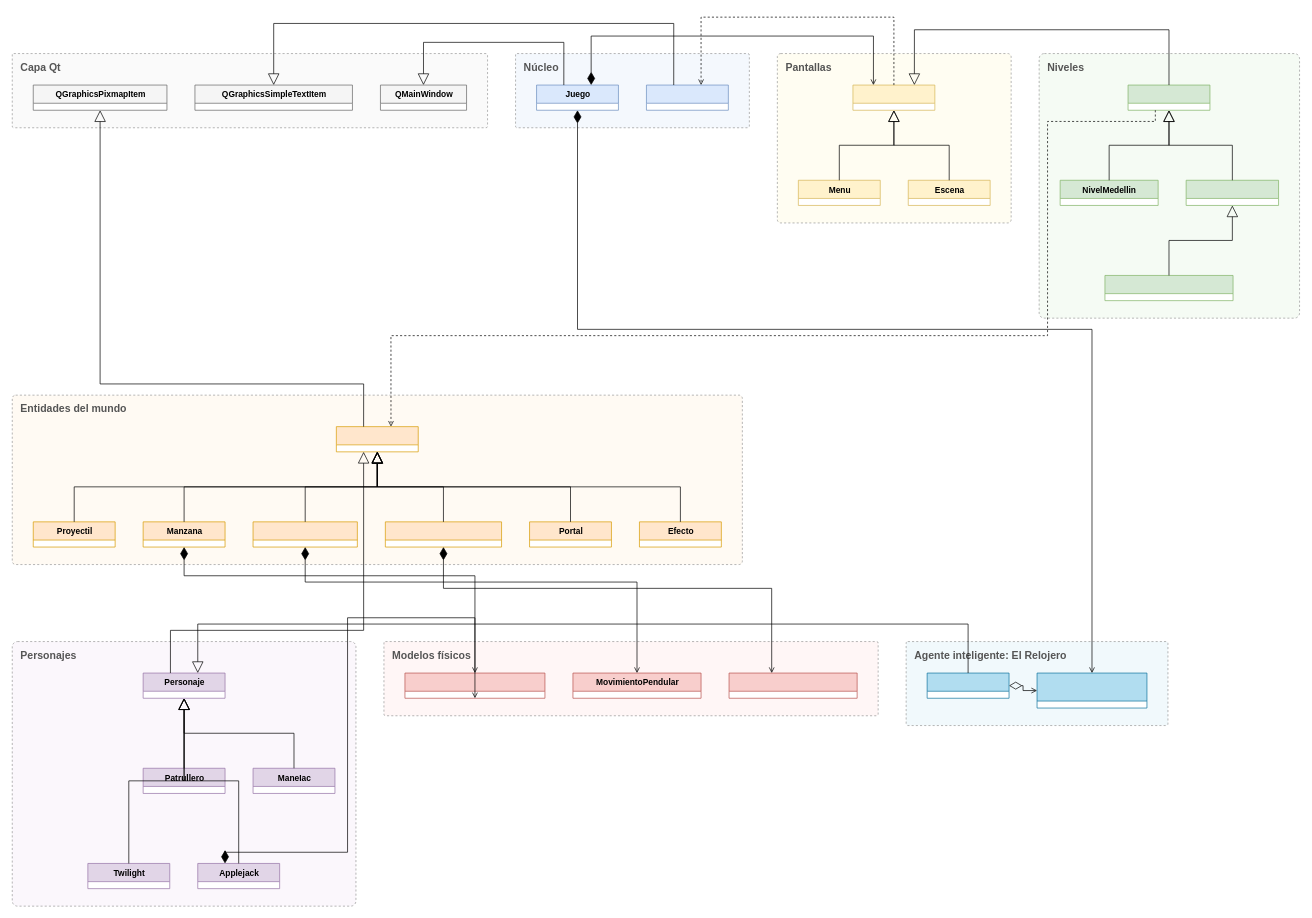
The diagram is 1312 pixels wide and 918 high, and some of its shapes have lost their labels. The shapes that lost their labels are listed below. From the top down, each one's centre as x and y in pixels, then its label:
At [687,97]: "TextoBorde".
At [893,97]: "Pantalla".
At [1168,97]: "Nivel".
At [1232,192]: "NivelLateral".
At [1168,288]: "NivelCiudadPerdida".
At [377,439]: "Entidad".
At [304,534]: "ObjetoPendular".
At [443,534]: "AnomaliaTemporal".
At [474,685]: "MovimientoParabolico".
At [792,685]: "MovimientoCircular".
At [967,685]: "Relojero".
At [1091,690]: "«struct» MemoriaRelojero".
